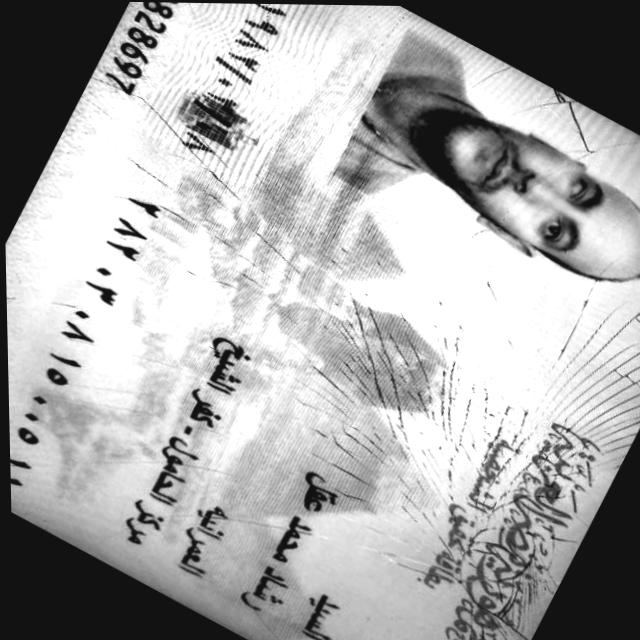front: (5, 2, 640, 640)
